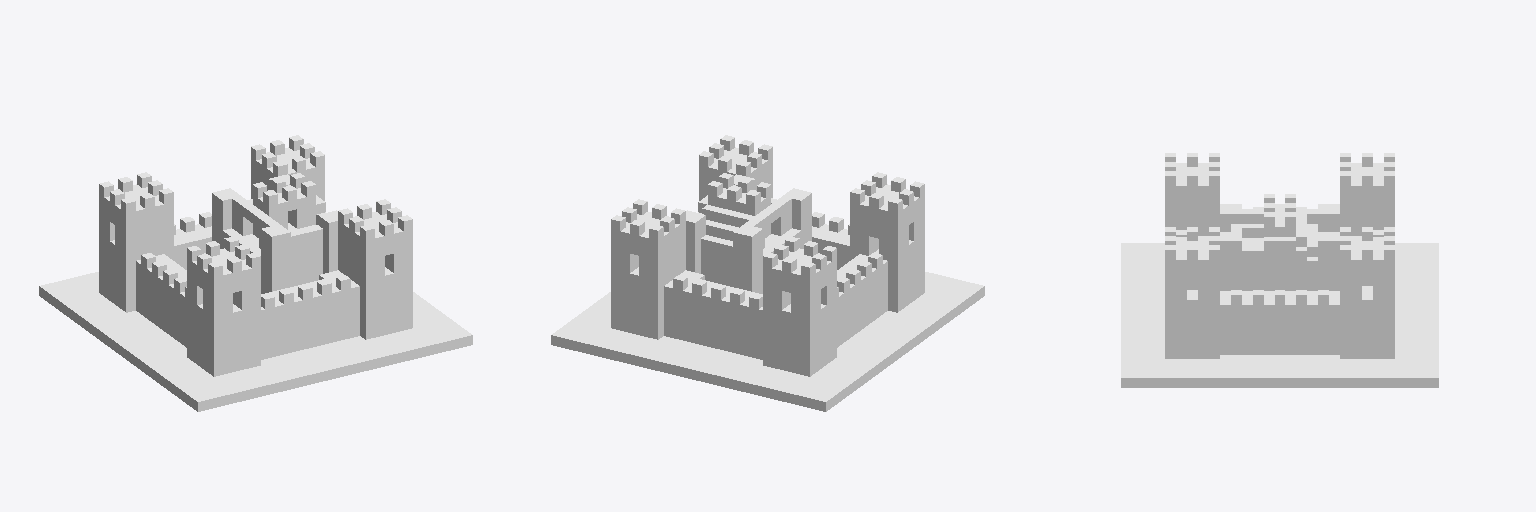
File: castle-0.obj
3 views of the same model, side by side, from view 1: azimuth 30°, elevation 25°; view 2: azimuth 150°, elevation 25°; view 3: azimuth 270°, elevation 25° (orthographic).
Visible parts, largest first — view 1: object 1; view 2: object 1; view 3: object 1.
Boxes of the visible parts, x1=… form: object 1: x1=39, y1=135, x2=472, y2=411; object 1: x1=551, y1=135, x2=984, y2=411; object 1: x1=1121, y1=153, x2=1438, y2=387.
Size of the model in its own units: 2.9 by 1.3 by 2.9.